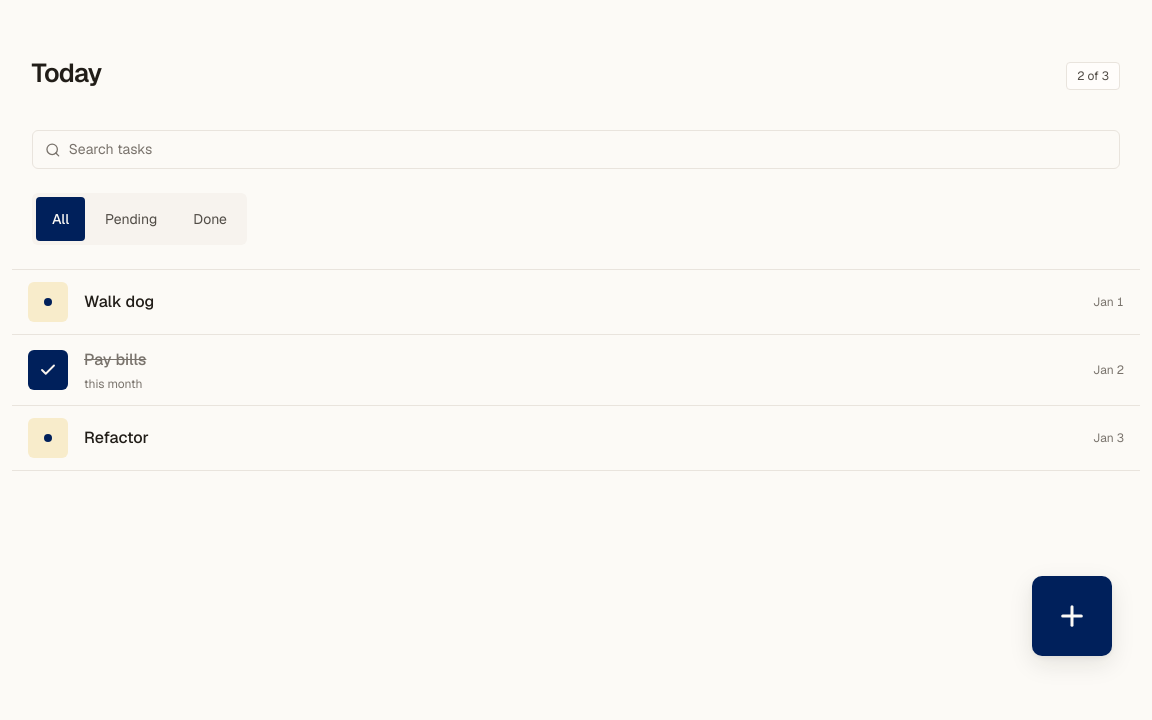
it: HomePage › filters: completed hides pending
Click the tab "Done" at (210, 219), box x1=177 y1=197 x2=243 y2=241
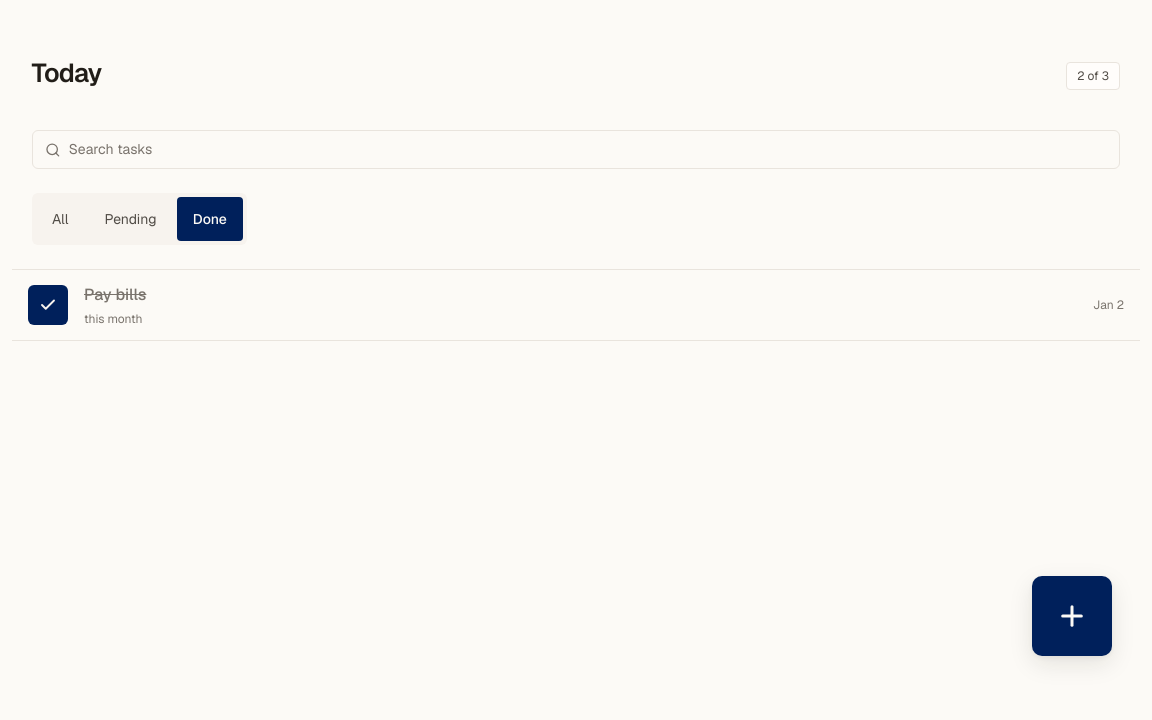
Expected: the text "Pay bills" is shown, x1=84 y1=284 x2=146 y2=305
Expected: the link "Walk dog" is gone
